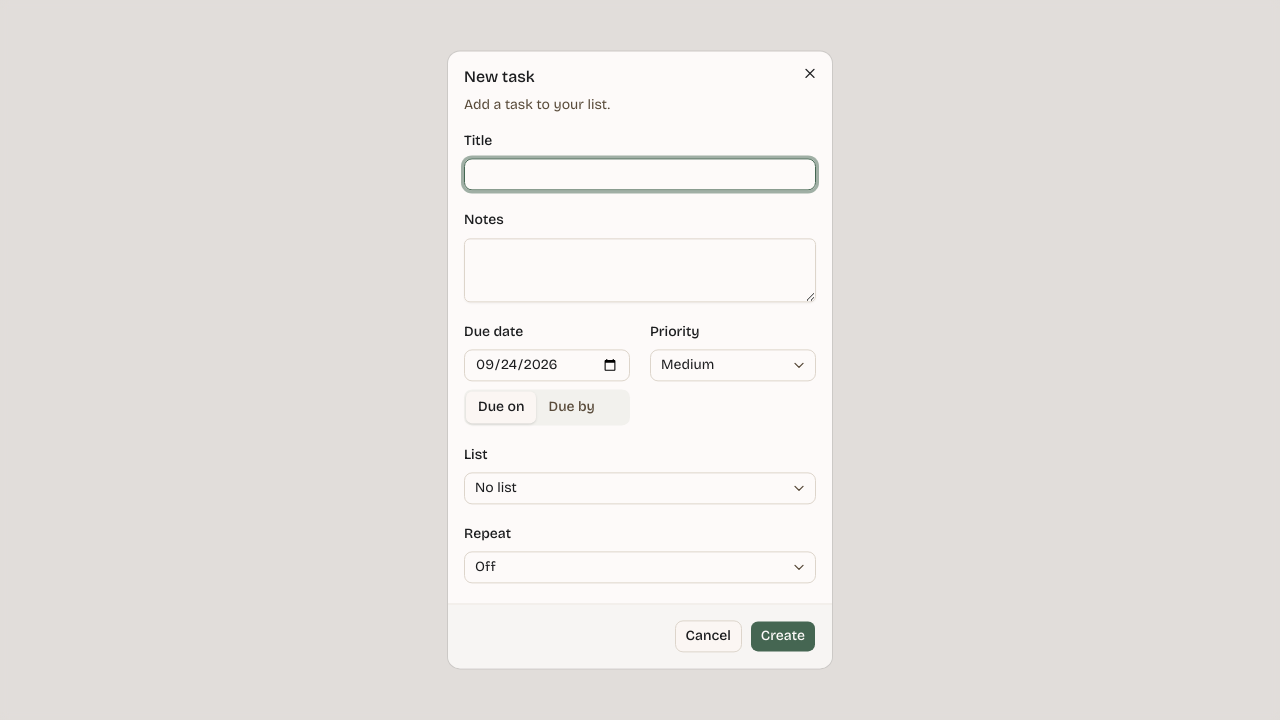
Scenario: TaskDialog › starts a new repeat on the due date already typed
Type "2026-12-01" into the date field labelled "Due date" at (547, 365), box top-left (464, 349), bottom-right (630, 381)
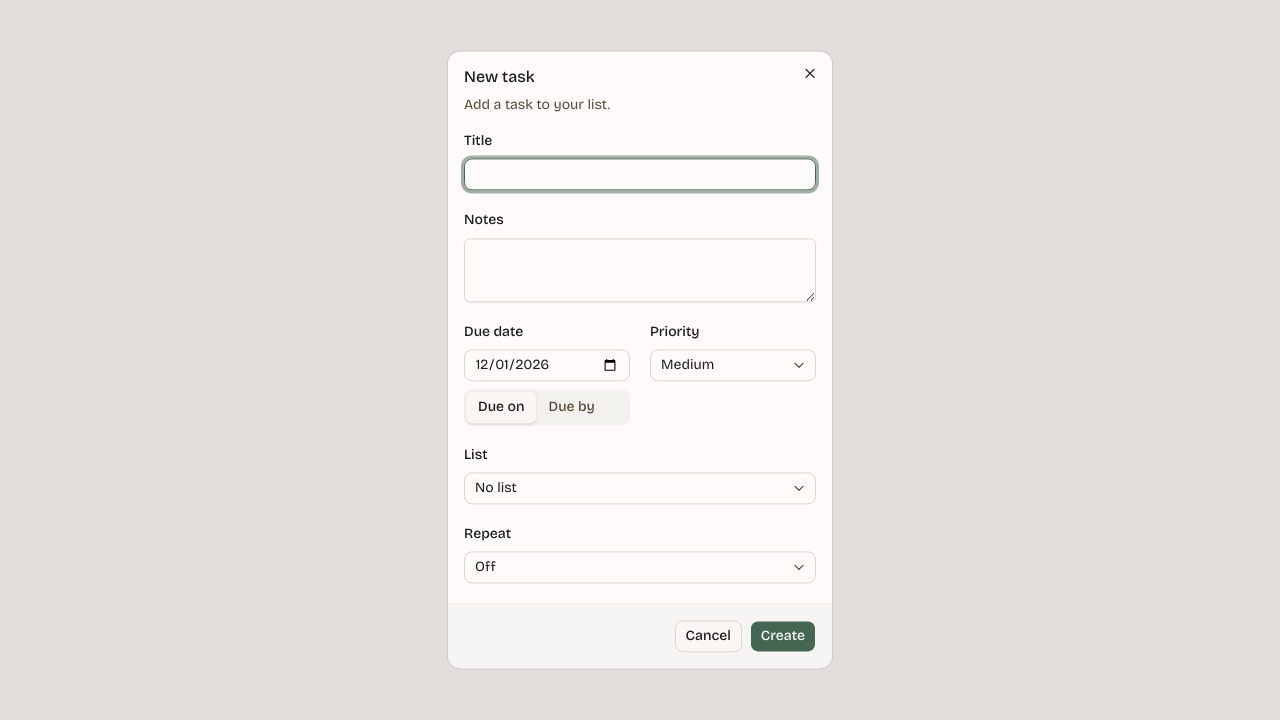
Click the dropdown named "Repeat" at (485, 567), box top-left (464, 552), bottom-right (816, 584)
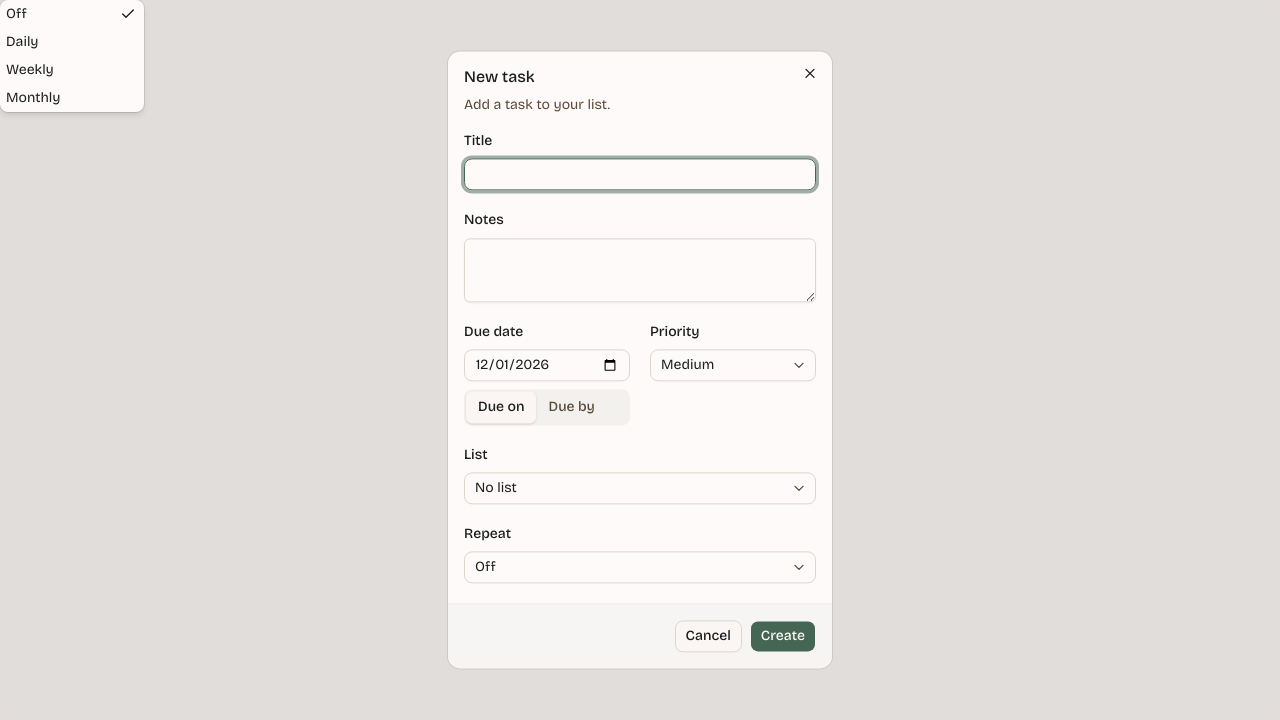
Press Enter in the option "Weekly", box top-left (6, 61), bottom-right (54, 78)
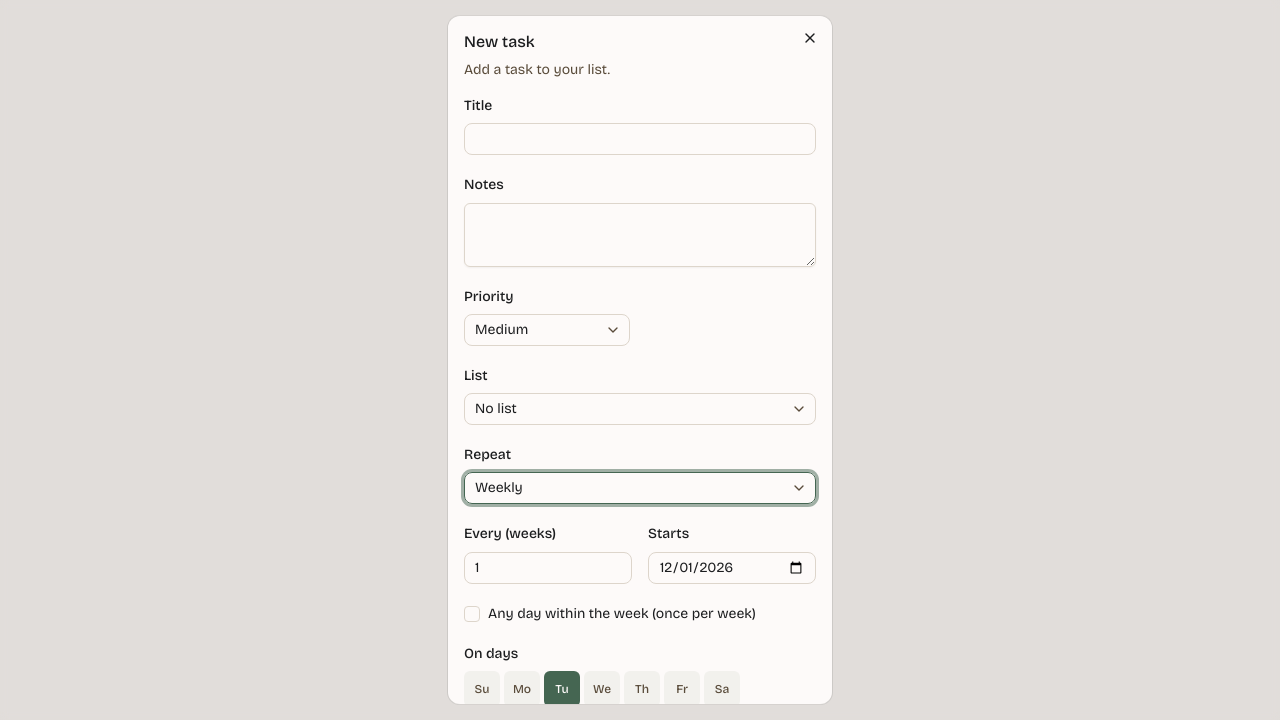
Now the date field labelled "Starts" holds "2026-12-01", box top-left (648, 552), bottom-right (816, 584)
